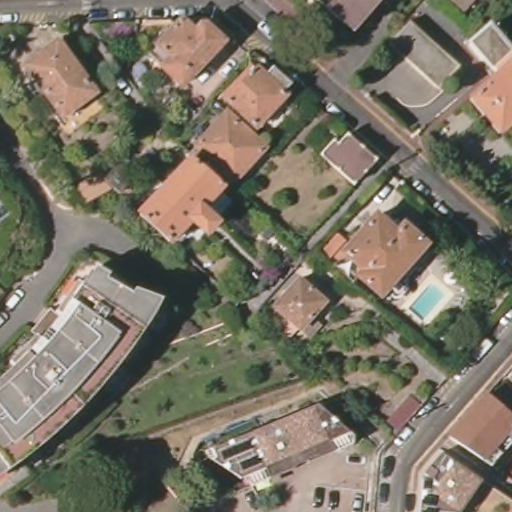pool: (411, 286, 444, 318)
